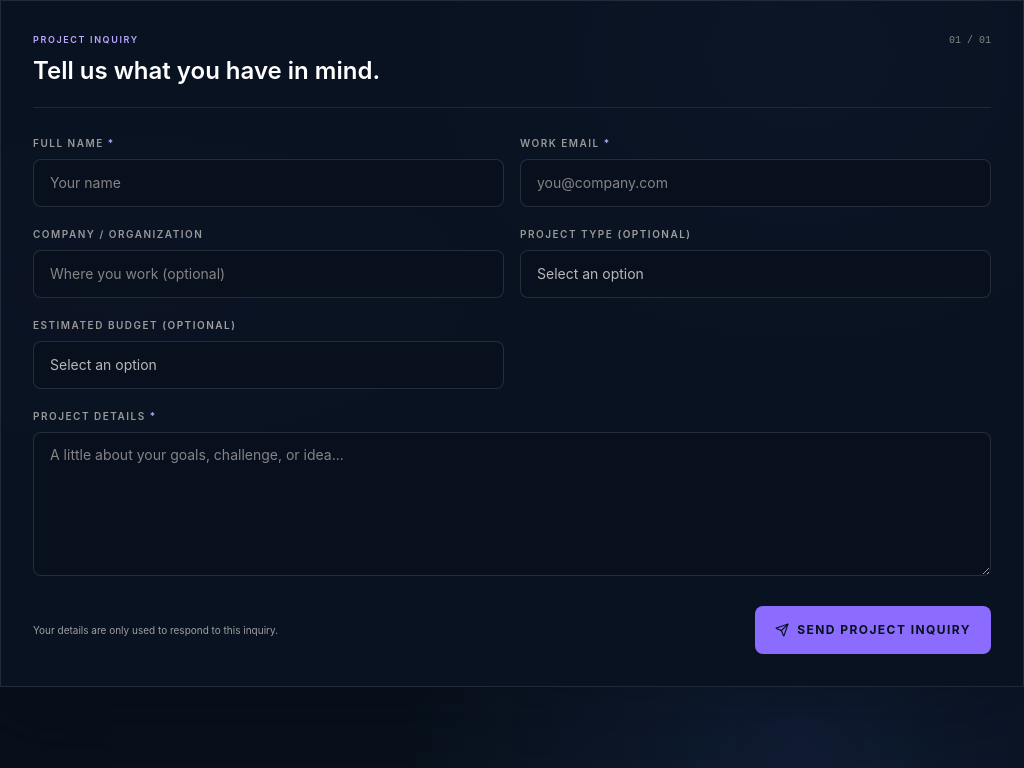
it: <ProjectInquiryForm /> › validates the required fields without submitting invalid data
The image size is (1024, 768).
Click the button "Send Project Inquiry". click: {"x": 873, "y": 630}
box: [755,606,991,654]
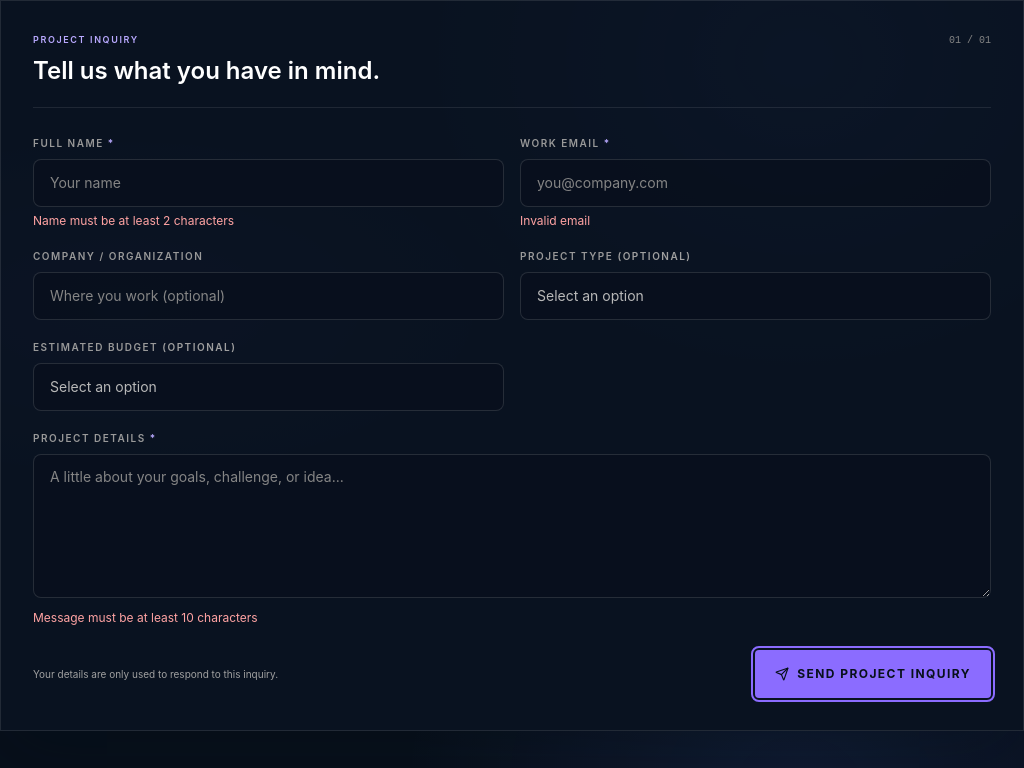
Expected: the text "Name must be at least 2 characters" is shown, [33,212,234,228]
Expected: the text "Invalid email" is shown, [520,212,590,228]
Expected: the text "Message must be at least 10 characters" is shown, [33,610,258,624]
